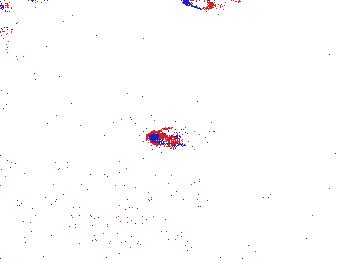red belly glassfish: (145, 127, 212, 148), (182, 1, 233, 10)
